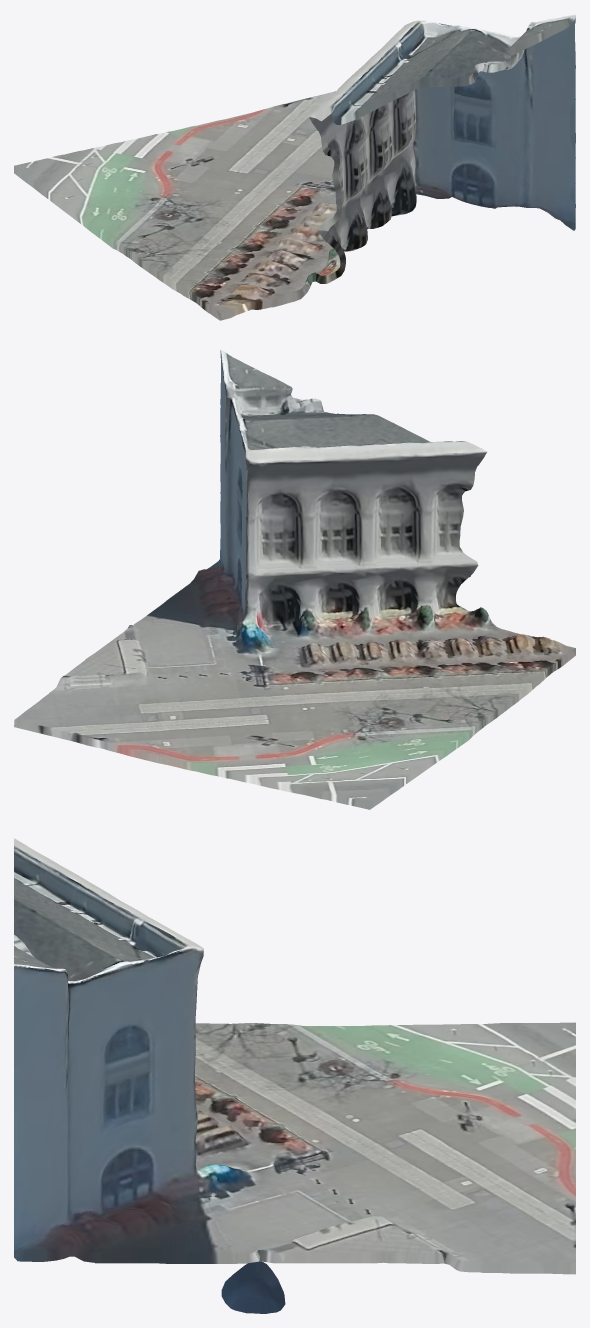
File: z20-167788-405218-h0-yup-uvflip-v3-world.glb
3 renders of one model, top to bottom at view 1: azimuth 30°, elevation 25°; view 2: azimuth 150°, elevation 25°; view 3: azimuth 270°, elevation 25°, orthographic. The views are drawn at different scales.
Size of the model in its own units: 30.2 by 20.8 by 30.32.
1 material, 1 textured.
